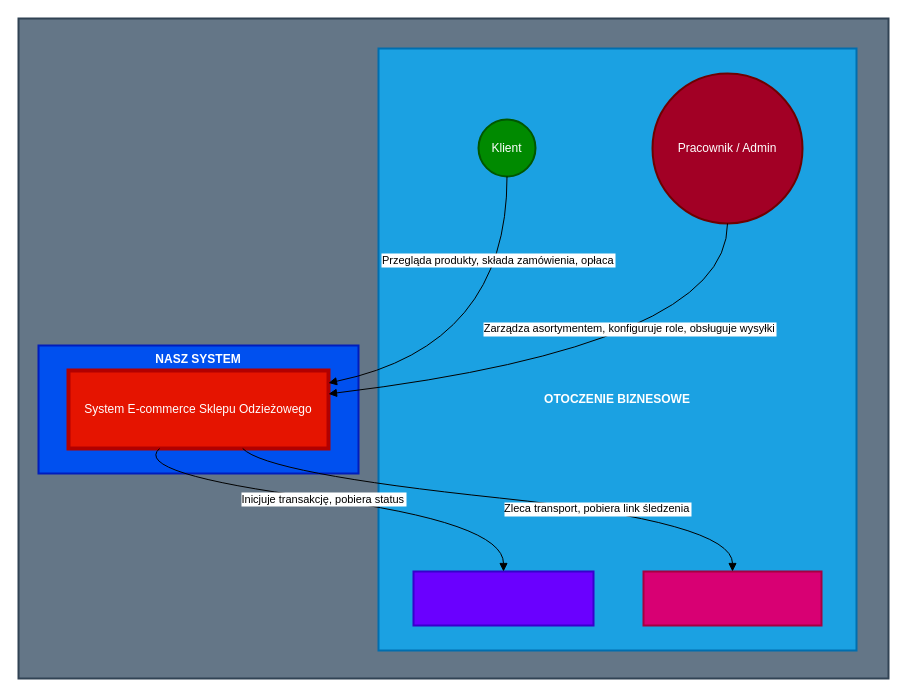
The diagram is 906 pixels wide and 696 high, and some of its shapes have lost their labels. The shapes that lost their labels are listed below. From the top down, each one's centre as x and y in pixels, then its label:
pixel 503 598: System Płatności
pixel 732 598: System Kurierski
